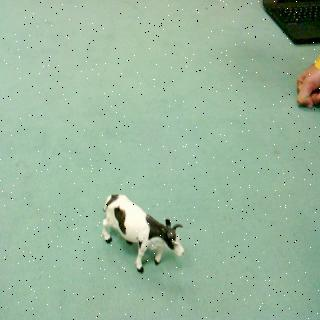cow: (98, 187, 188, 276)
